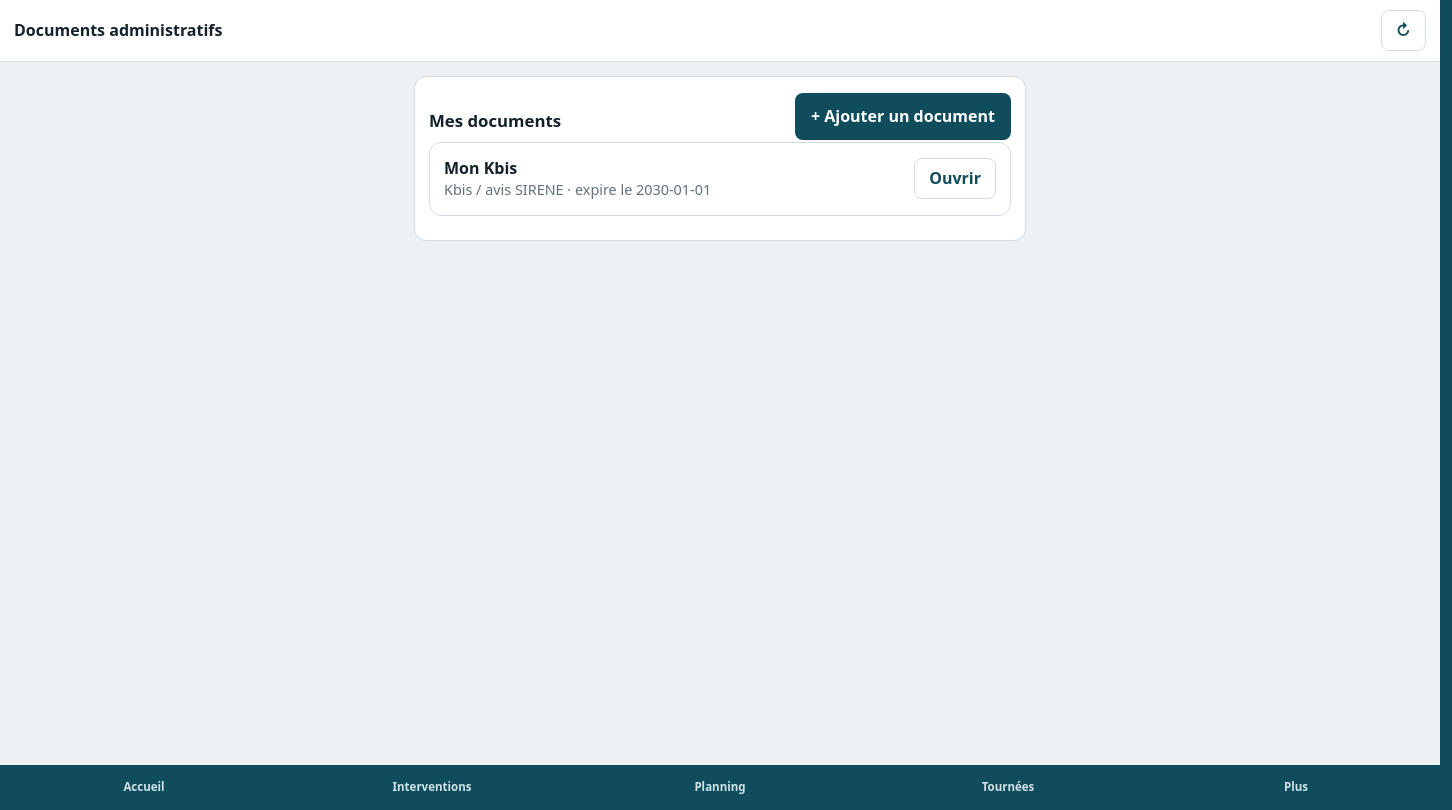
Test: documents : bouton Ouvrir › fichier introuvable → message visible (pas de silence) et onglet fermé
The image size is (1452, 810).
Click the button "Ouvrir": (955, 179) top-left (914, 158), bottom-right (996, 199)
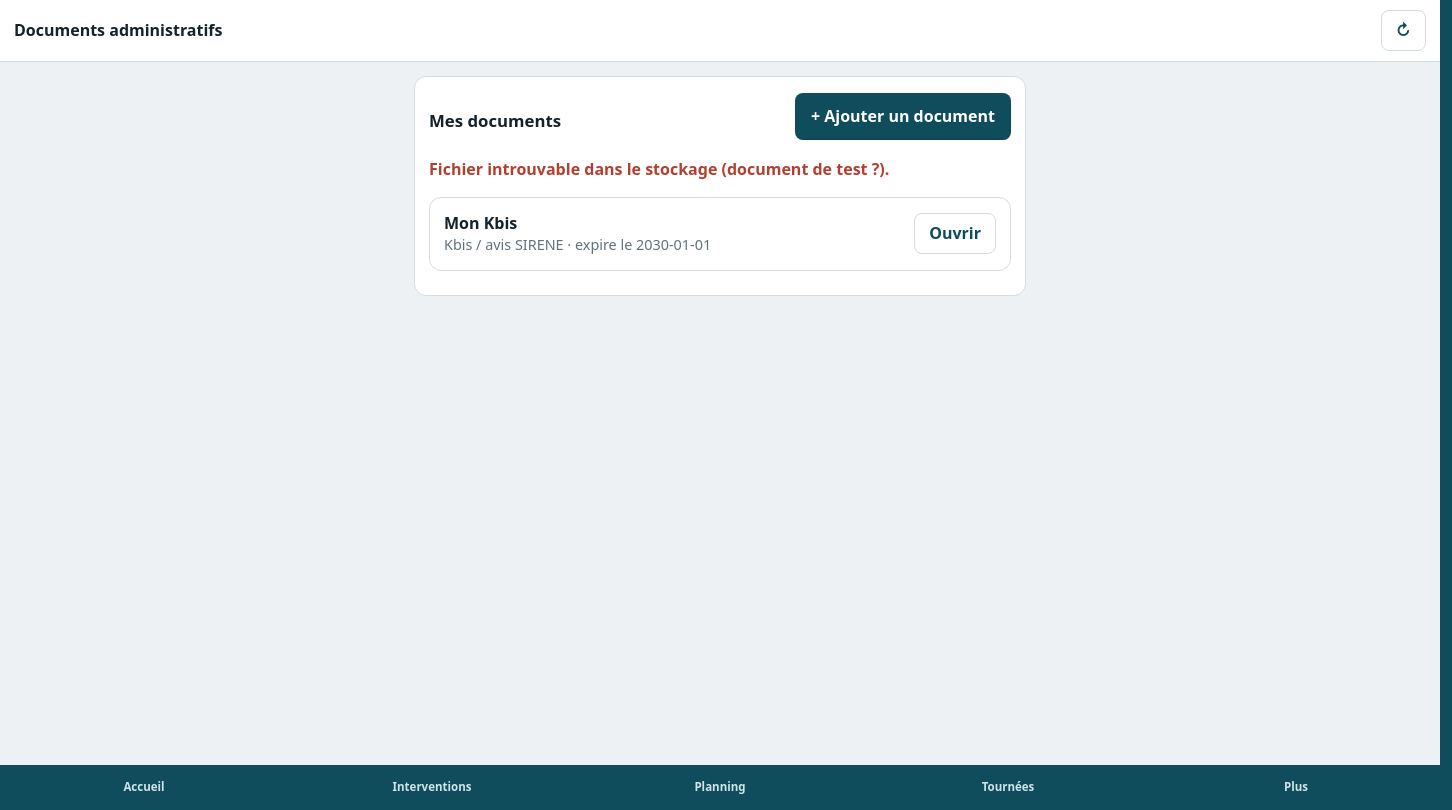
Now the text "Fichier introuvable dans le stockage (document de test ?)." is shown, box top-left (429, 158), bottom-right (889, 180)
